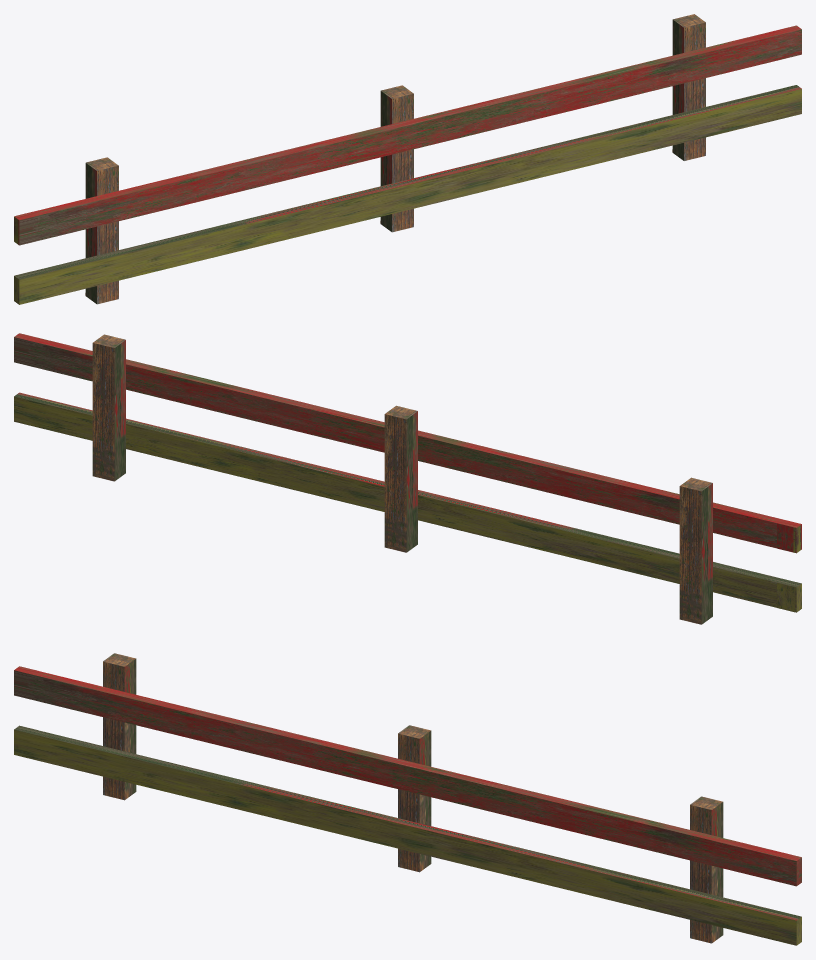
File: playground 3,2.fbx
3 renders of one model, top to bottom at view 1: azimuth 30°, elevation 25°; view 2: azimuth 150°, elevation 25°; view 3: azimuth 330°, elevation 25°, orthographic.
Visible parts, largest first — view 1: Cube.028; view 2: Cube.028; view 3: Cube.028.
Part boxes in pixels (x1,y1,x2,y2): Cube.028: (14,14,801,304); Cube.028: (14,333,801,624); Cube.028: (14,653,801,945).
Size of the model in its own units: 394 by 64.16 by 15.03.
